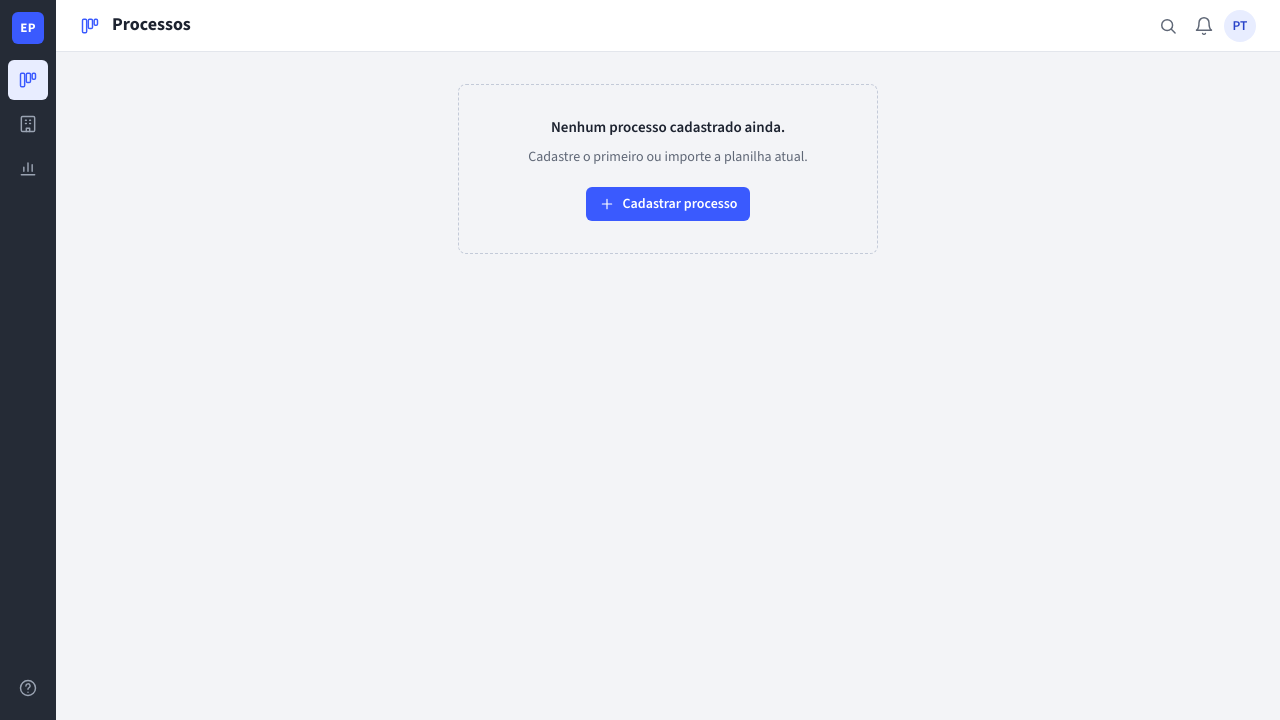
Test case: Ajuda abre a tela Em breve
The image size is (1280, 720).
Click the button named "Ajuda".
click(28, 688)  # box [8,668,48,708]
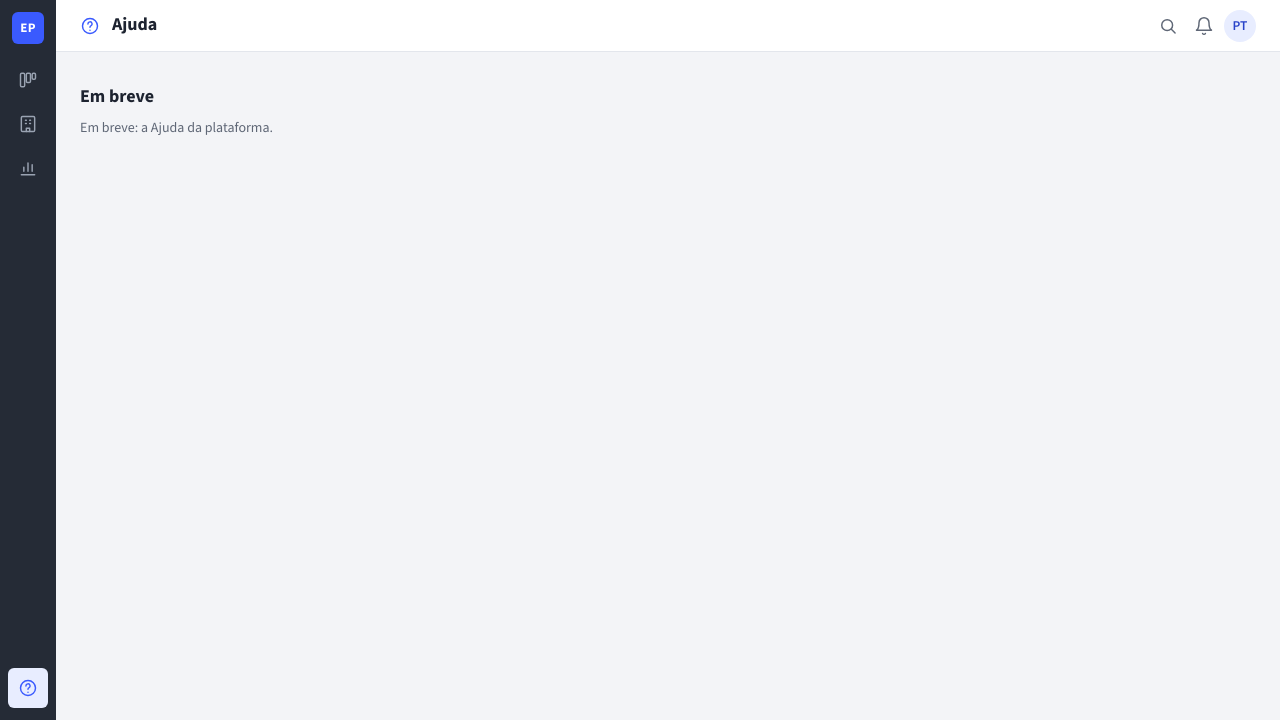
Now the text "Em breve: a Ajuda da plataforma." is shown, box [80,118,273,138]
